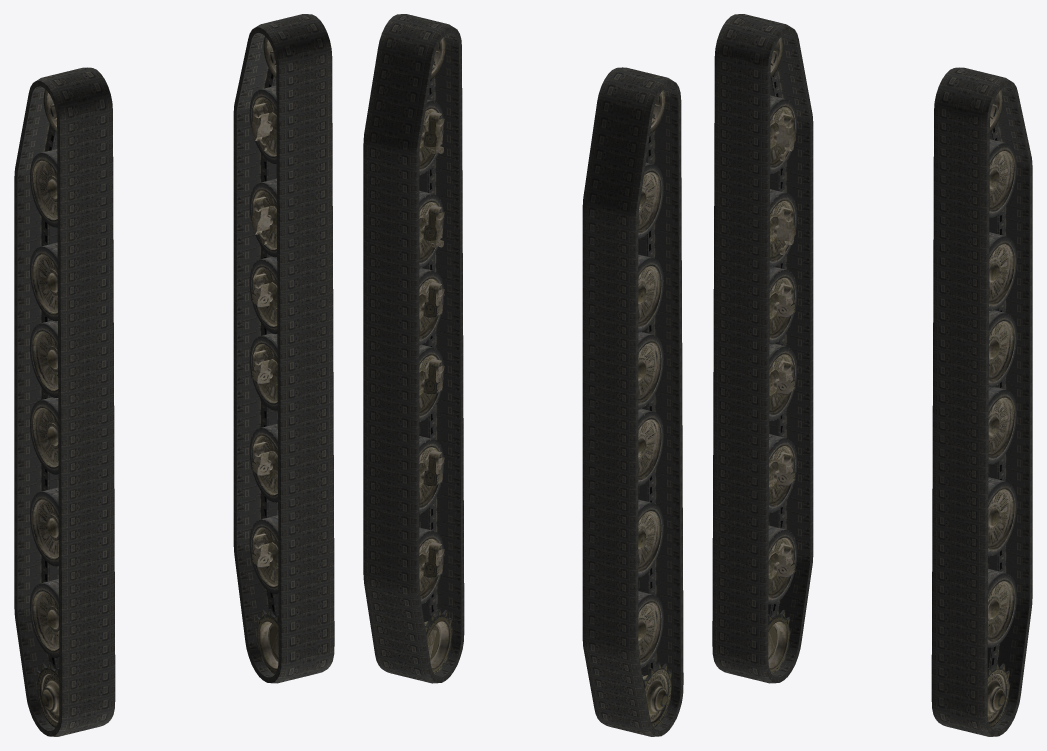
The model's file is Chassis.glb.
3 renders of one model, left to right at view 1: azimuth 30°, elevation 25°; view 2: azimuth 150°, elevation 25°; view 3: azimuth 330°, elevation 25°, orthographic.
Parts seen in each view (by area): view 1: set_1_group_0, set_0_group_0, set_2_group_0, set_3_group_0; view 2: set_1_group_0, set_0_group_0, set_2_group_0, set_3_group_0; view 3: set_0_group_0, set_1_group_0, set_3_group_0, set_2_group_0.
Part boxes in pixels (left/top/right/bottom): set_1_group_0: left=233, top=14, right=334, bottom=683; set_0_group_0: left=14, top=67, right=115, bottom=736; set_2_group_0: left=30, top=89, right=59, bottom=727; set_3_group_0: left=249, top=36, right=278, bottom=673; set_1_group_0: left=363, top=14, right=464, bottom=683; set_0_group_0: left=582, top=67, right=683, bottom=736; set_2_group_0: left=638, top=89, right=671, bottom=727; set_3_group_0: left=419, top=36, right=451, bottom=673; set_0_group_0: left=712, top=14, right=813, bottom=683; set_1_group_0: left=931, top=67, right=1032, bottom=736; set_3_group_0: left=987, top=89, right=1016, bottom=727; set_2_group_0: left=768, top=36, right=797, bottom=673.
Size of the model in its own units: 3.34 by 7.68 by 1.06.
4 materials, 4 textured.
